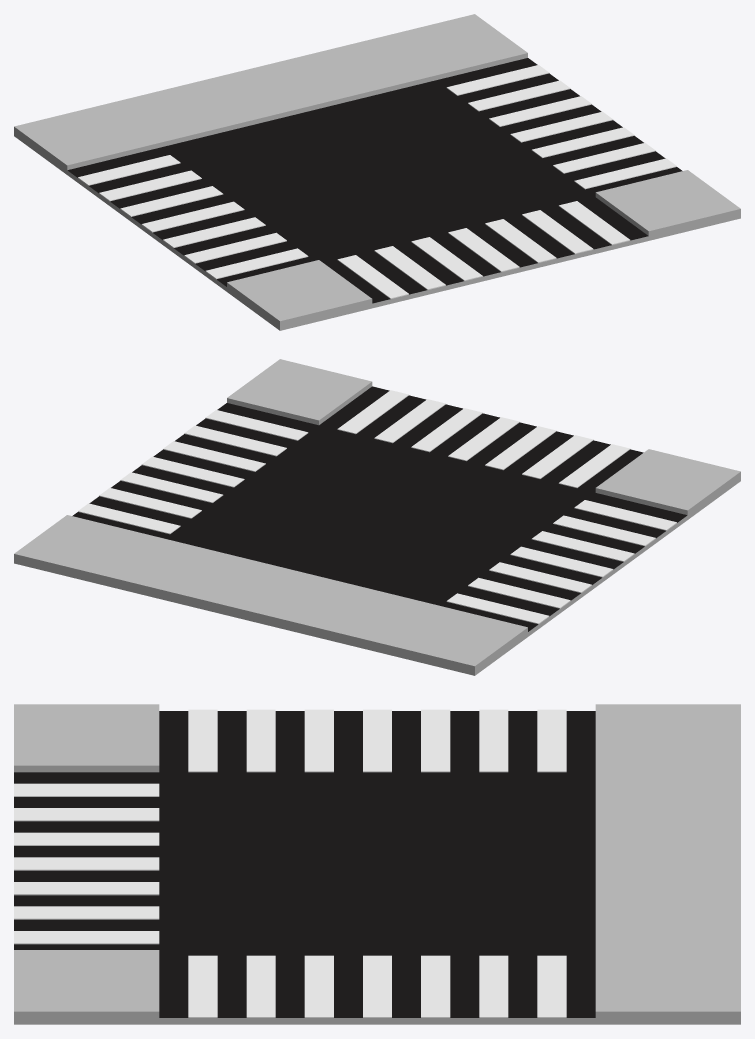
File: Env_Road_Side_04.fbx
The picture shows the model from 3 angles, top to bottom: view 1: azimuth 30°, elevation 25°; view 2: azimuth 150°, elevation 25°; view 3: azimuth 270°, elevation 25°; orthographic projection. The views are drawn at different scales.
Visible parts, largest first — view 1: Env_Road_Side_04; view 2: Env_Road_Side_04; view 3: Env_Road_Side_04.
Part boxes in pixels (x1=…): Env_Road_Side_04: x1=14, y1=14, x2=740, y2=330; Env_Road_Side_04: x1=14, y1=359, x2=740, y2=675; Env_Road_Side_04: x1=14, y1=704, x2=740, y2=1024.
Bounding box in the file's own units: 1000 × 20 × 1000.
